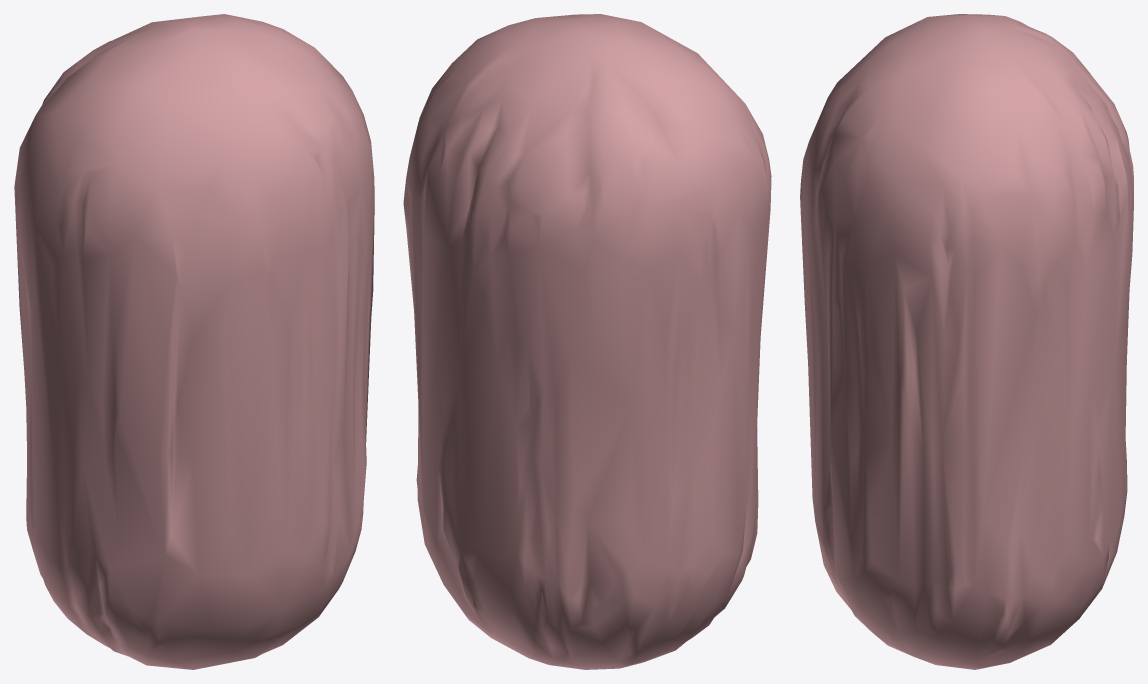
The picture shows the model from 3 angles, left to right: view 1: azimuth 30°, elevation 25°; view 2: azimuth 150°, elevation 25°; view 3: azimuth 270°, elevation 25°; orthographic projection.
Parts seen in each view (by area): view 1: ZA_4b5c6f9187019cbf; view 2: ZA_4b5c6f9187019cbf; view 3: ZA_4b5c6f9187019cbf.
Part boxes in pixels (left/top/right/bottom): ZA_4b5c6f9187019cbf: left=14, top=14, right=374, bottom=669; ZA_4b5c6f9187019cbf: left=403, top=14, right=771, bottom=669; ZA_4b5c6f9187019cbf: left=800, top=14, right=1133, bottom=669.
Bounding box in the file's own units: 0.005 × 0.00929 × 0.00451.
